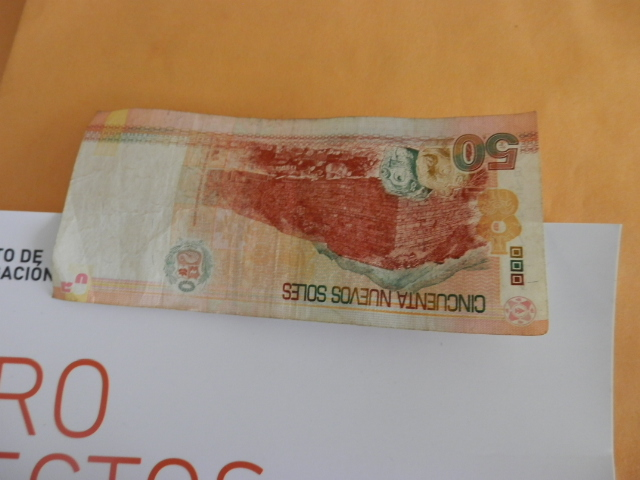B50: (60, 112, 550, 337)
